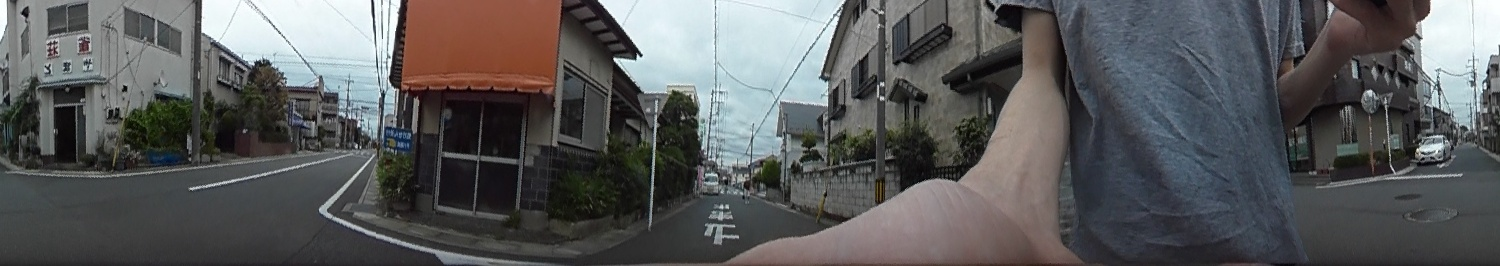difficult_person: (741, 174, 751, 201)
